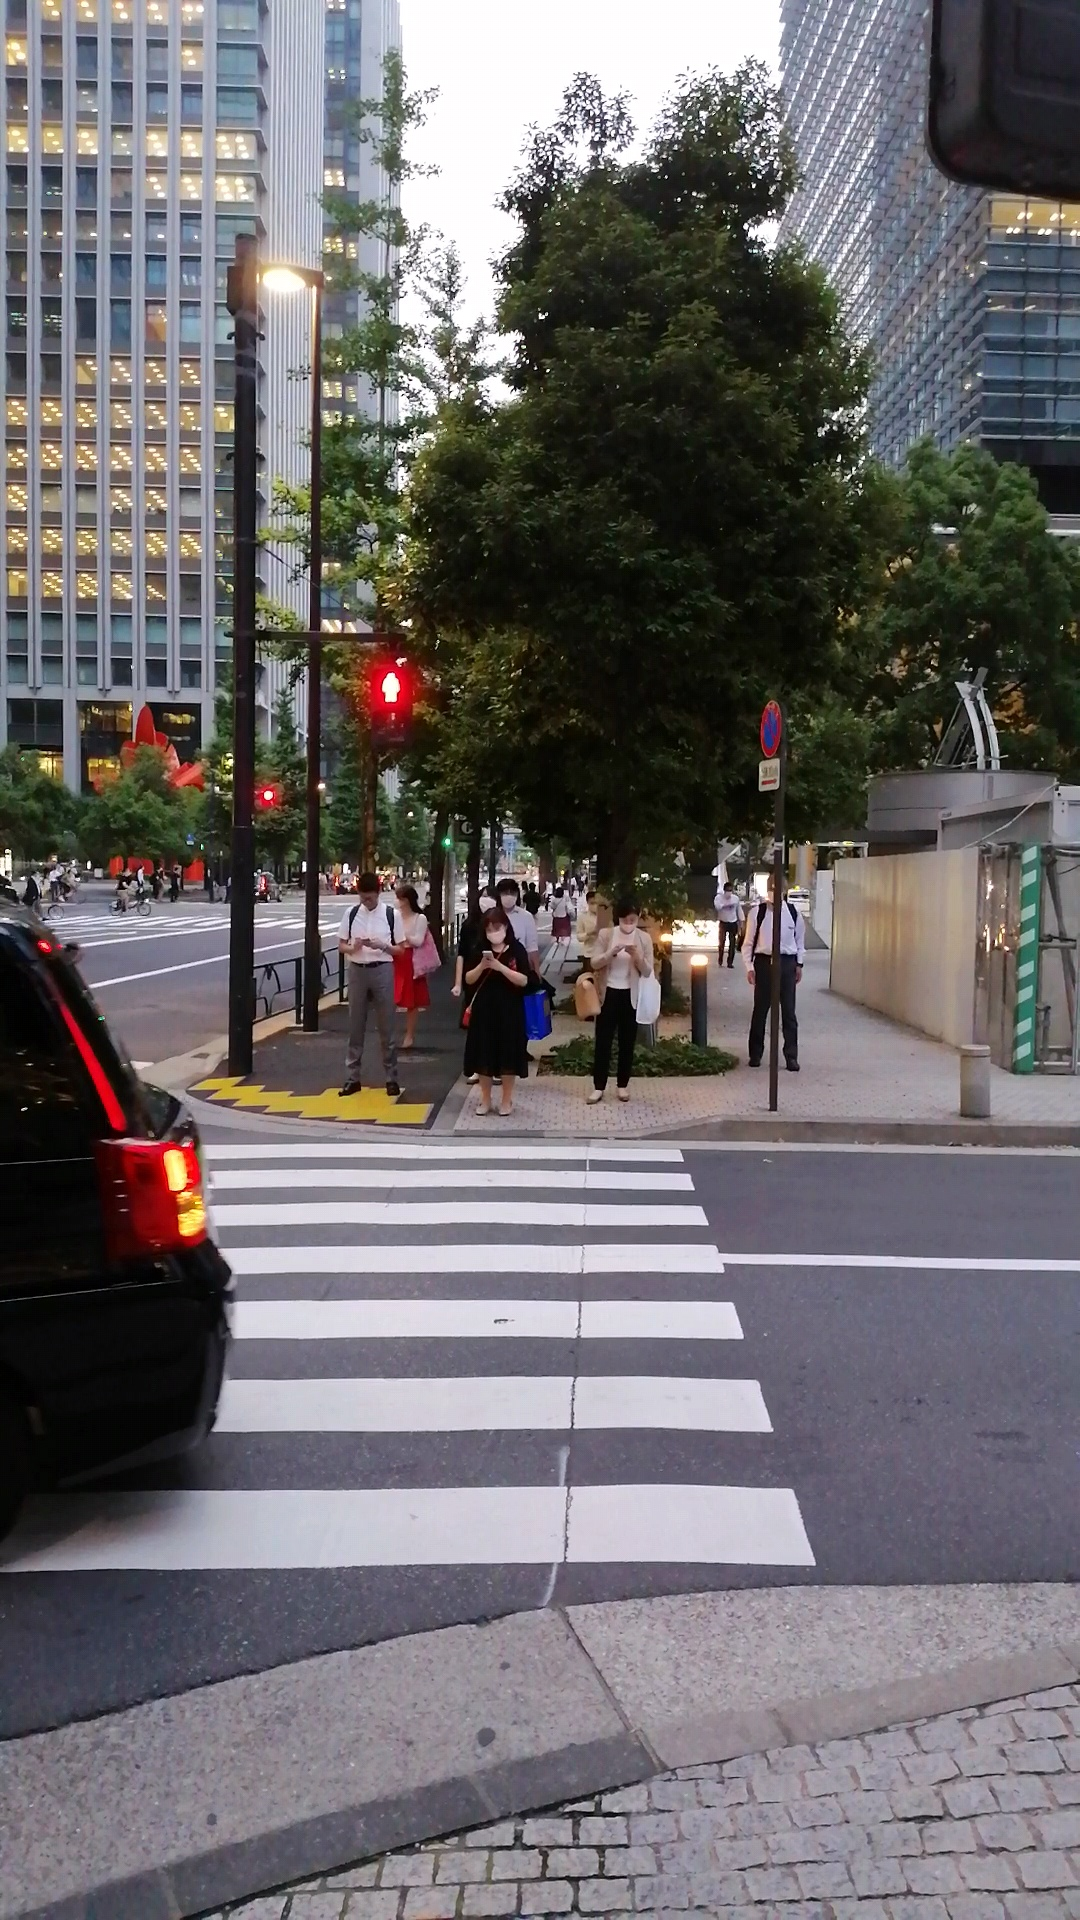red: (369, 662, 413, 748)
